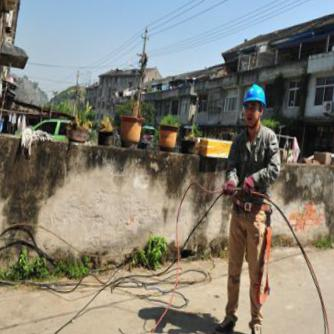helmet: (240, 82, 269, 106)
